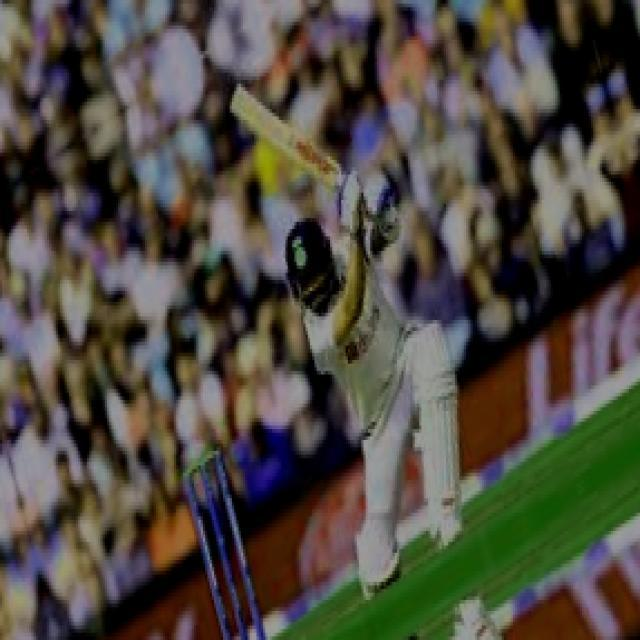bat: (227, 83, 347, 179)
toe: (230, 83, 248, 120)
